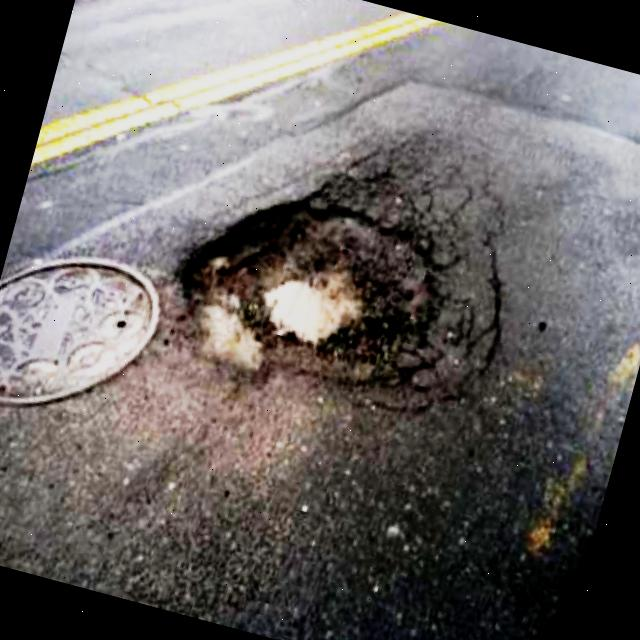pothole: (162, 156, 467, 410)
